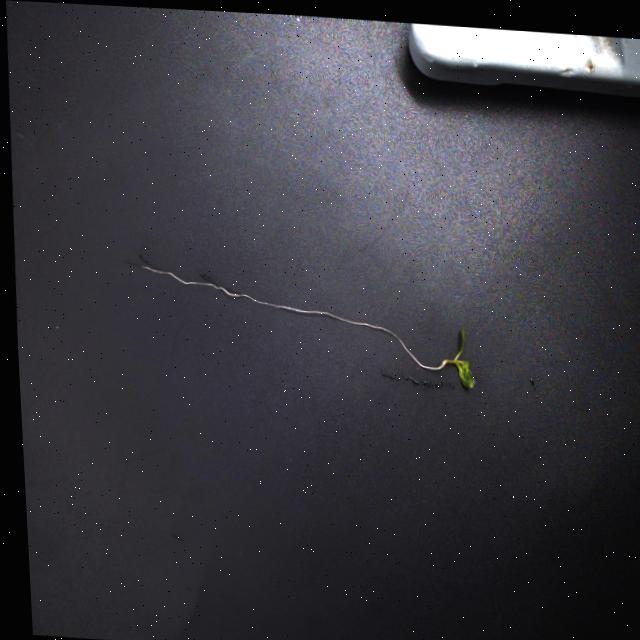leaf: (454, 324, 474, 393)
root: (135, 257, 445, 381)
steb: (442, 349, 460, 369)
